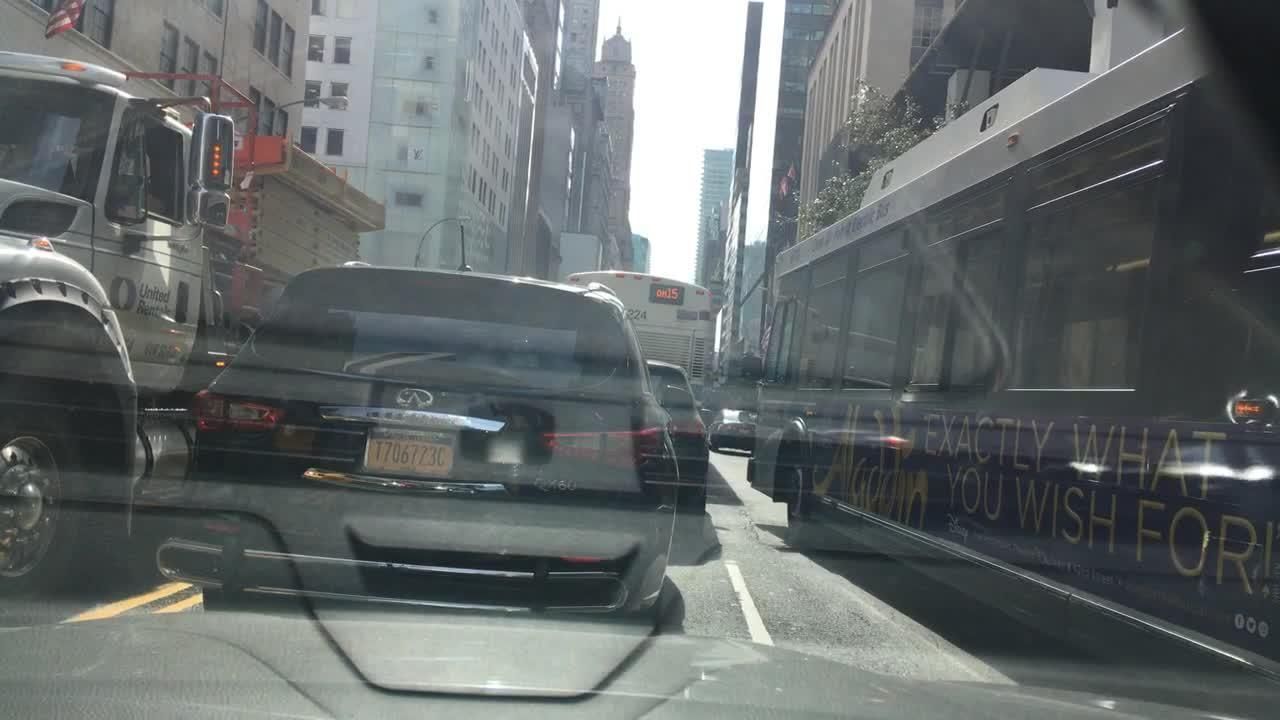Infiniti: (383, 378, 442, 416)
